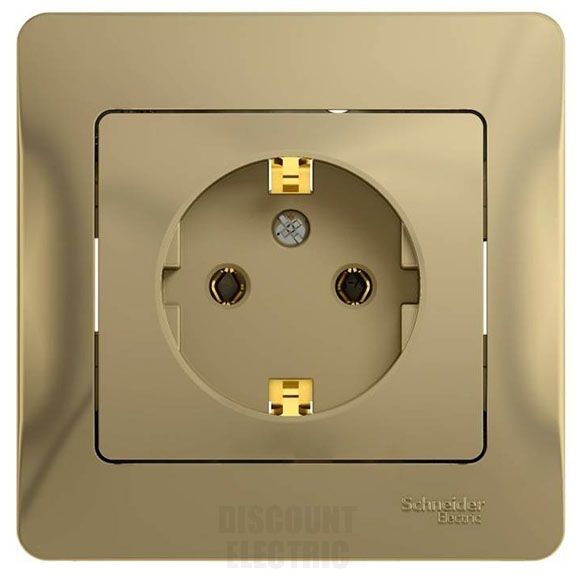raccoon: (154, 151, 424, 428)
